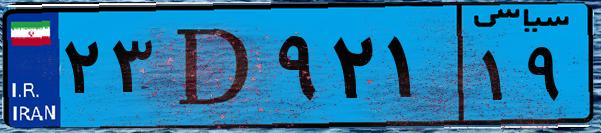1: (385, 28, 445, 110), (475, 38, 525, 113)
2: (330, 28, 385, 110), (57, 26, 110, 100)
3: (110, 28, 158, 98)
9: (270, 28, 330, 110), (525, 38, 570, 115)
D: (158, 12, 270, 120)
